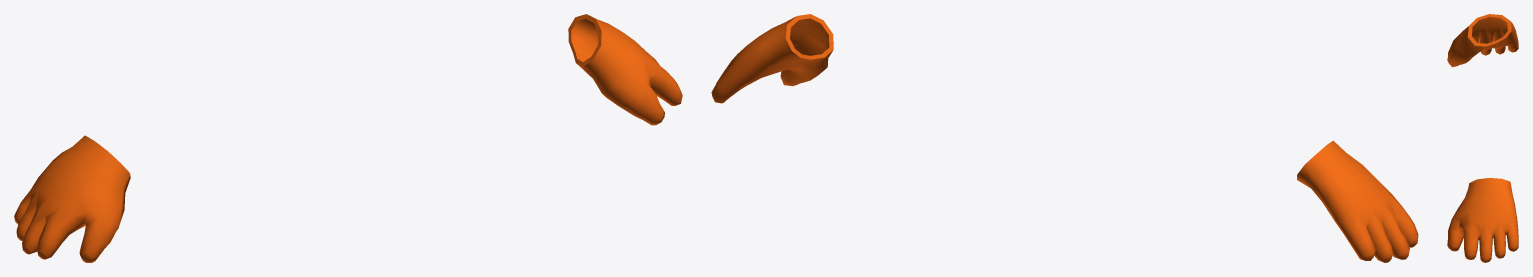
The model's file is Gloves_02.glb.
3 renders of one model, left to right at view 1: azimuth 30°, elevation 25°; view 2: azimuth 150°, elevation 25°; view 3: azimuth 270°, elevation 25°, orthographic. The views are drawn at different scales.
Visible parts, largest first — view 1: Gloves_02; view 2: Gloves_02; view 3: Gloves_02.
Part boxes in pixels (bbox=[...]): Gloves_02: bbox=[14, 14, 682, 262]; Gloves_02: bbox=[711, 14, 1418, 262]; Gloves_02: bbox=[1447, 14, 1518, 262].
Size of the model in its own units: 0.8285 by 0.1151 by 0.1179.
1 material, 1 textured.
